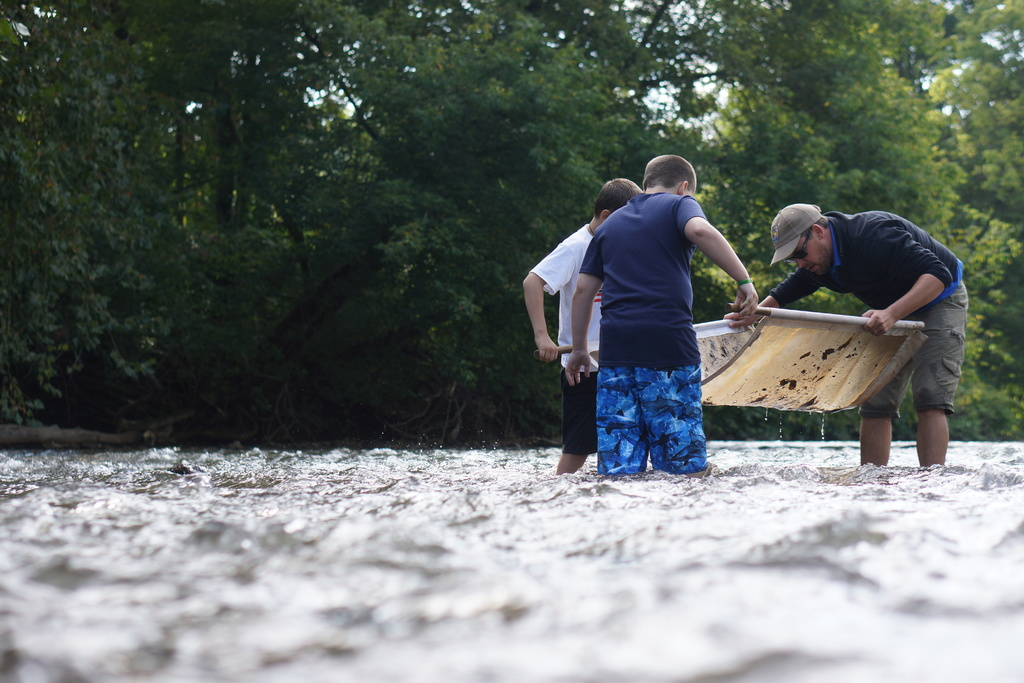Human_hand: (861, 308, 898, 338), (563, 352, 591, 386), (533, 333, 566, 361), (735, 281, 762, 315), (721, 309, 762, 328)
